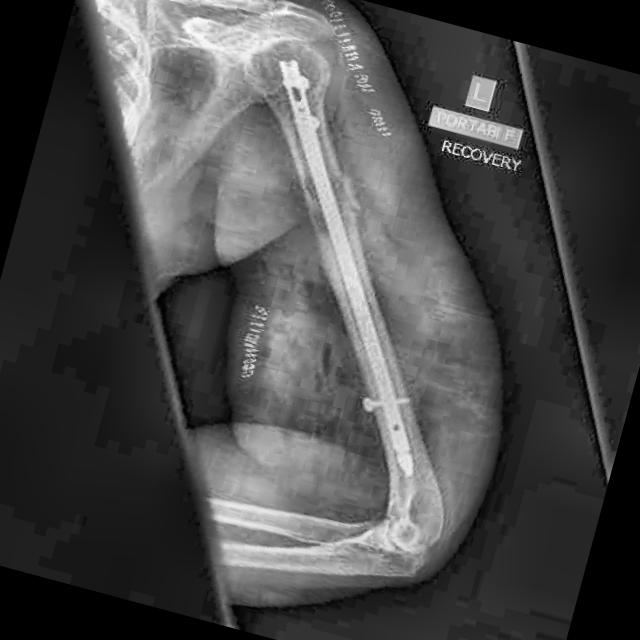humerus: (315, 157, 378, 235)
